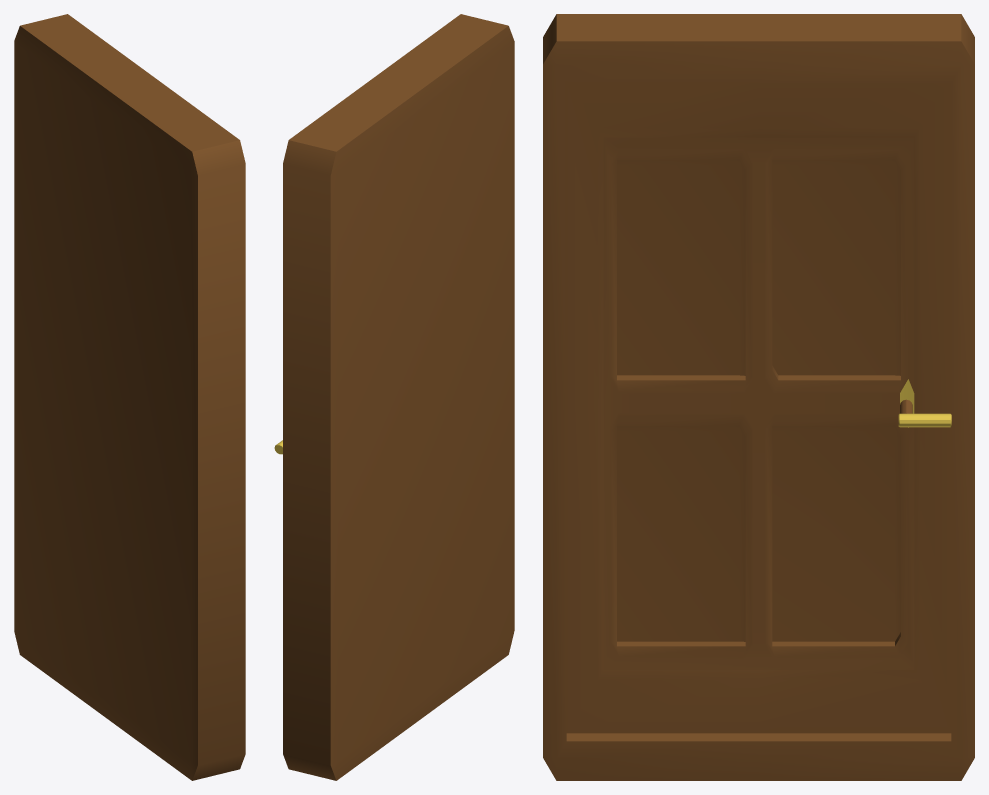
The model's file is porte_scene5.fbx.
3 views of the same model, side by side, from view 1: azimuth 30°, elevation 25°; view 2: azimuth 150°, elevation 25°; view 3: azimuth 270°, elevation 25° (orthographic). The views are drawn at different scales.
Parts seen in each view (by area): view 1: Cube; view 2: Cube; view 3: Cube, Cylinder.
Boxes of the visible parts, x1=… form: Cube: x1=14, y1=14, x2=245, y2=780; Cube: x1=283, y1=14, x2=514, y2=780; Cube: x1=543, y1=14, x2=974, y2=780; Cylinder: x1=898, y1=399, x2=951, y2=427.
Bounding box in the file's own units: 69.51 × 612 × 324.
